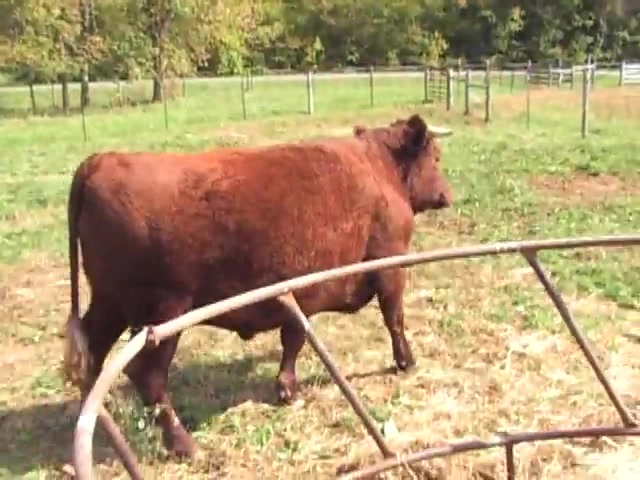cow: (67, 113, 456, 465)
